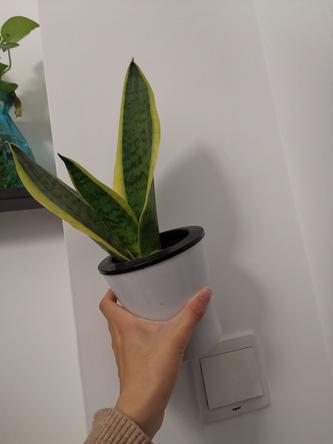switch: (200, 341, 268, 410)
